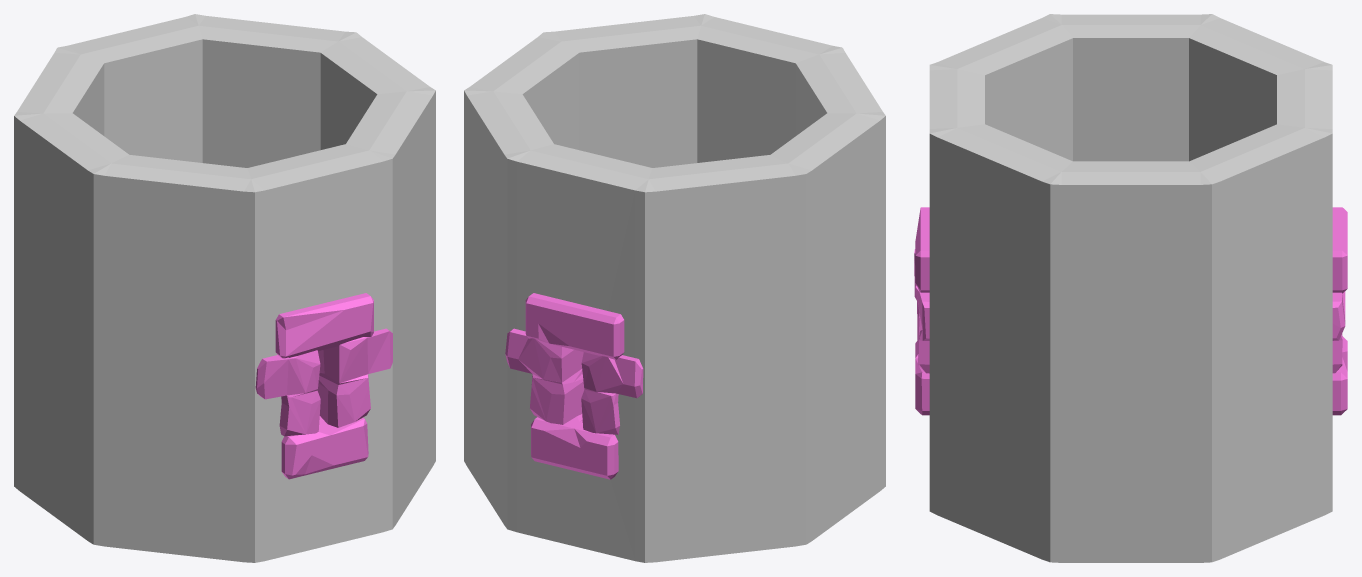
Rendered from SM_Tower_Round_3m_Window_Fantasy.fbx.
3 views of the same model, side by side, from view 1: azimuth 30°, elevation 25°; view 2: azimuth 150°, elevation 25°; view 3: azimuth 270°, elevation 25° (orthographic).
Parts seen in each view (by area): view 1: SM_Tower_Round_3m_Window_Fantasy; view 2: SM_Tower_Round_3m_Window_Fantasy; view 3: SM_Tower_Round_3m_Window_Fantasy.
Part boxes in pixels (x1,y1,x2,y2): SM_Tower_Round_3m_Window_Fantasy: (14, 14, 435, 562); SM_Tower_Round_3m_Window_Fantasy: (464, 14, 885, 562); SM_Tower_Round_3m_Window_Fantasy: (914, 14, 1347, 562).
Size of the model in its own units: 2.9 by 3.01 by 3.12.
